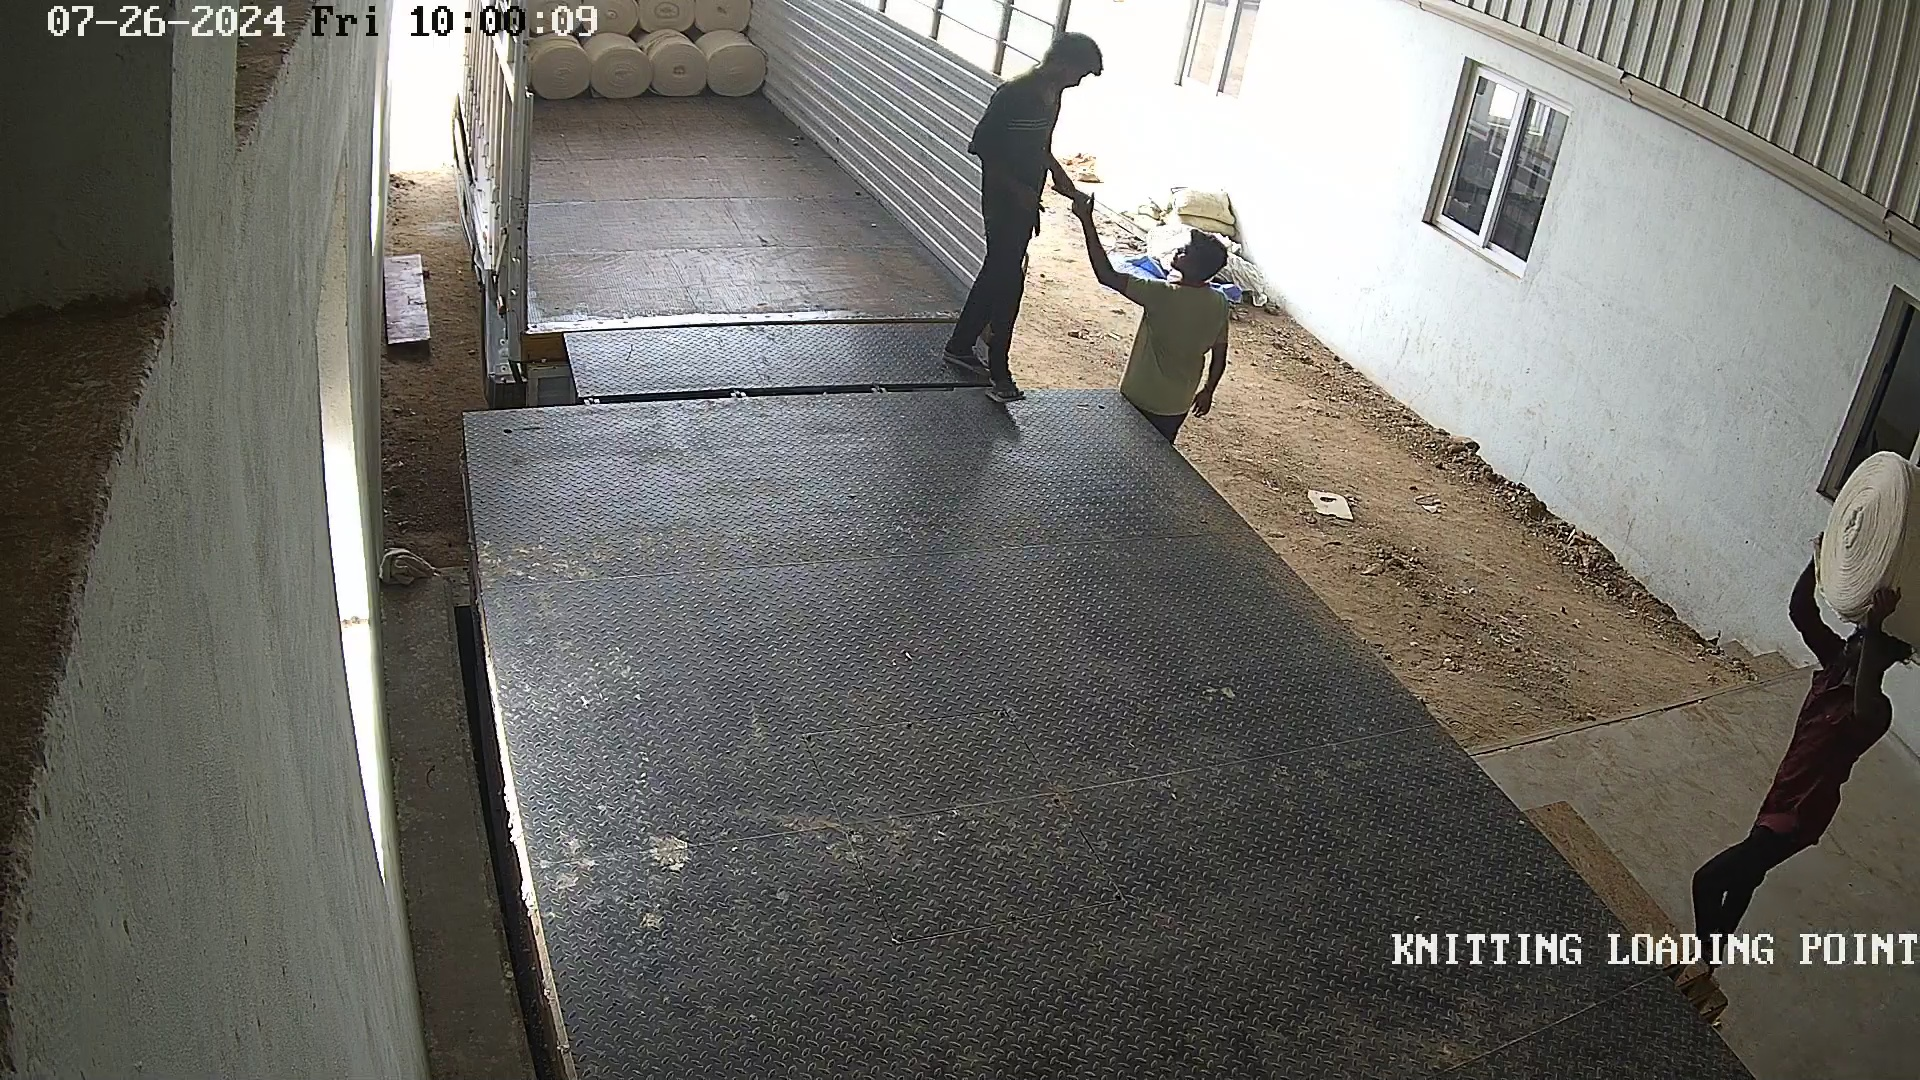bag: (1811, 444, 1920, 653)
